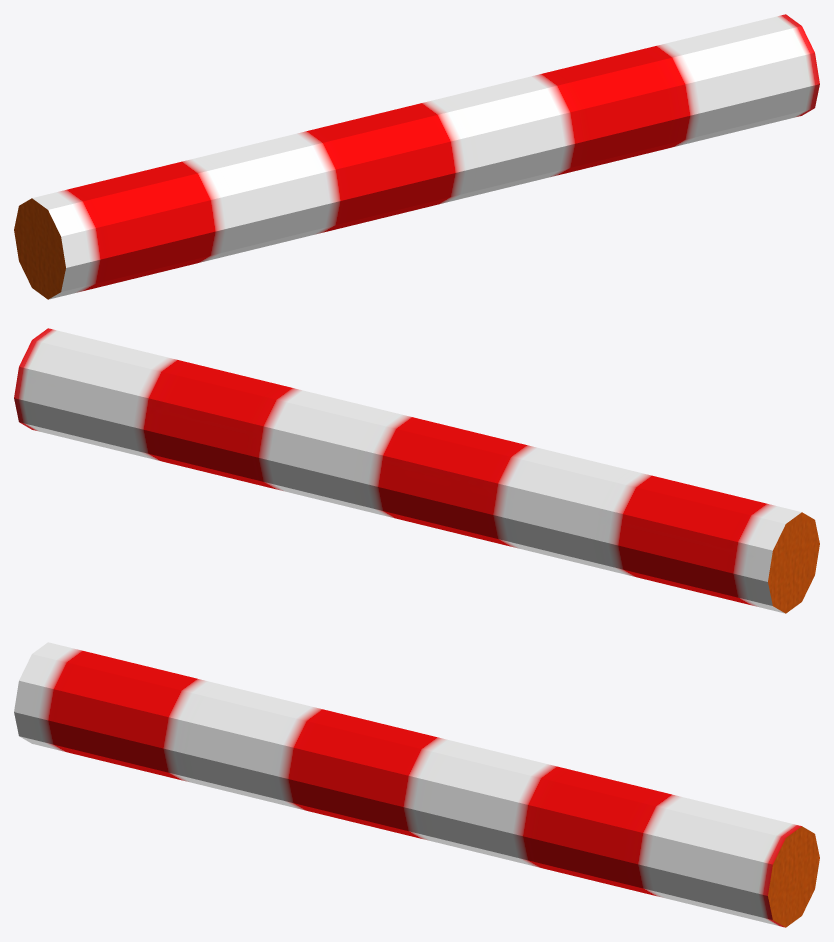
The model's file is road_bump_4.fbx.
3 views of the same model, one above another, from view 1: azimuth 30°, elevation 25°; view 2: azimuth 150°, elevation 25°; view 3: azimuth 330°, elevation 25° (orthographic).
Parts seen in each view (by area): view 1: SPEEDBRKR_1; view 2: SPEEDBRKR_1; view 3: SPEEDBRKR_1.
Part boxes in pixels (x1,y1,x2,y2): SPEEDBRKR_1: [14, 14, 819, 299]; SPEEDBRKR_1: [14, 328, 819, 613]; SPEEDBRKR_1: [14, 642, 819, 927].
Size of the model in its own units: 173 by 19.74 by 20.76.
